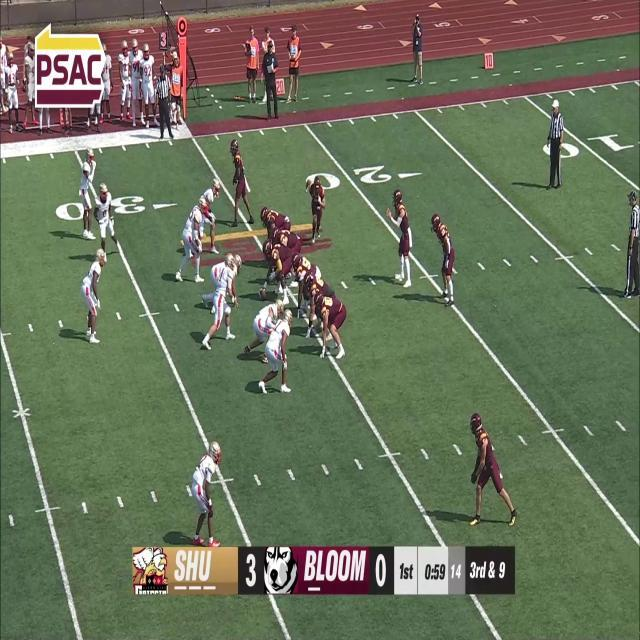football: (260, 286, 266, 300)
